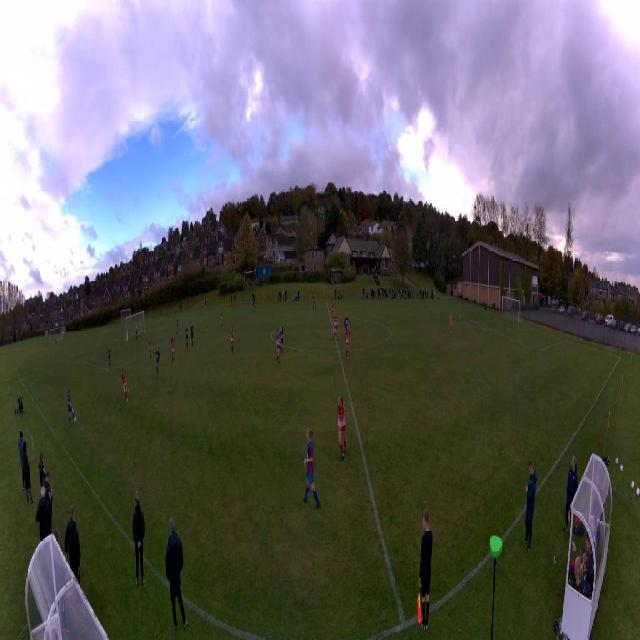ball: (74, 417, 77, 424)
player: (301, 426, 321, 511), (335, 396, 348, 461), (119, 370, 130, 404), (68, 387, 75, 427), (154, 346, 161, 374), (276, 333, 282, 365), (345, 329, 351, 360), (332, 313, 338, 340), (230, 327, 234, 354), (171, 338, 175, 364), (185, 324, 189, 350), (190, 323, 194, 348), (280, 328, 284, 353), (343, 315, 349, 331), (148, 338, 152, 360), (331, 302, 335, 322), (108, 345, 111, 369), (450, 312, 453, 333), (313, 294, 317, 309), (220, 311, 223, 329), (176, 318, 179, 336), (135, 325, 138, 341), (253, 299, 256, 314)
